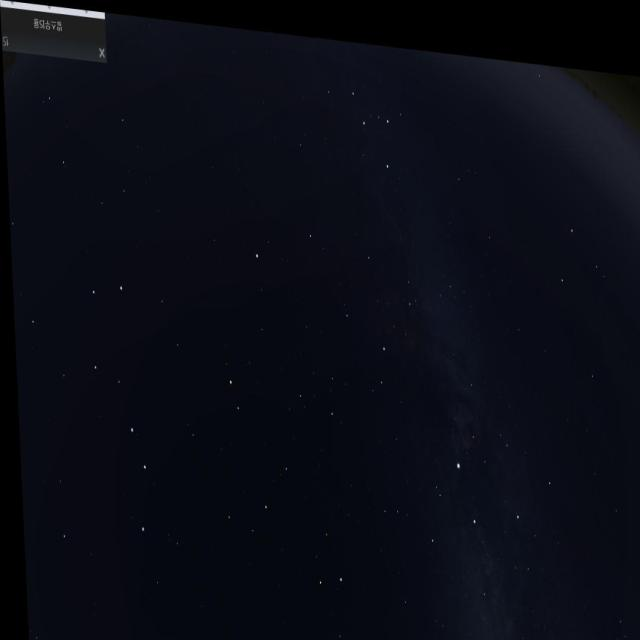cassiopeia: (312, 59, 413, 181)
cygnus: (417, 431, 526, 640)
ursa_major: (71, 265, 163, 547)
